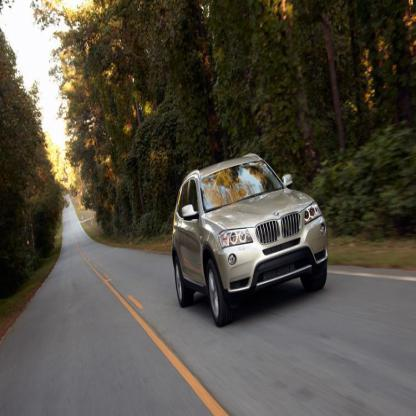Vehicle: (172, 148, 334, 330)
